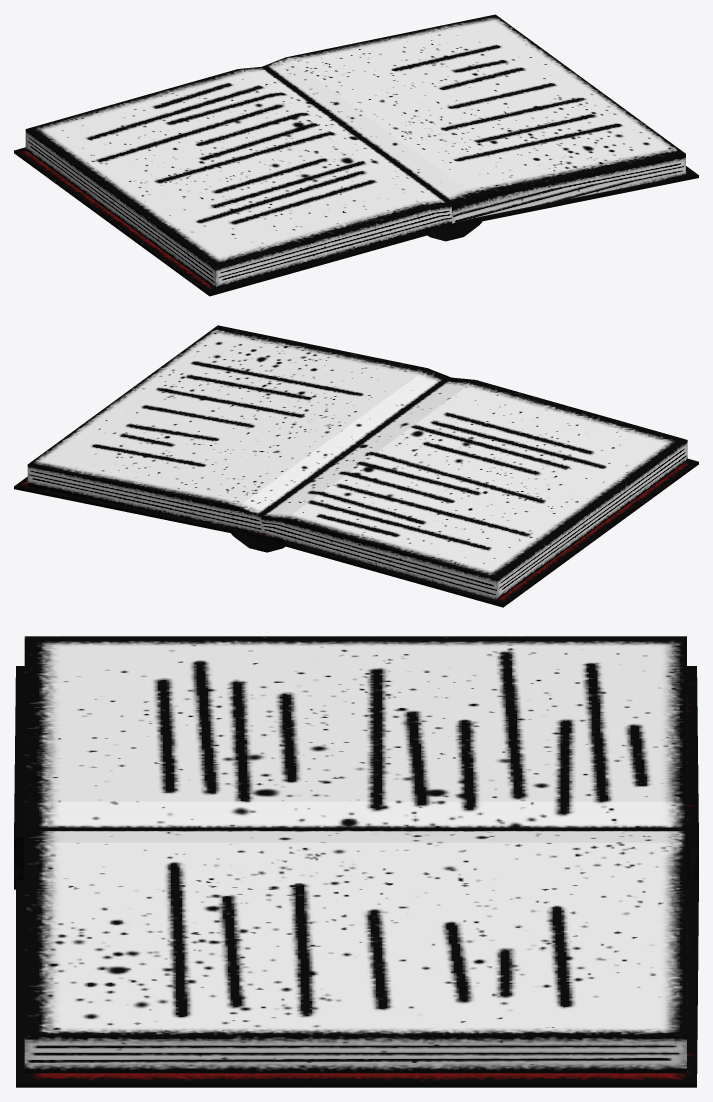
The model's file is book_open.obj.
3 renders of one model, top to bottom at view 1: azimuth 30°, elevation 25°; view 2: azimuth 150°, elevation 25°; view 3: azimuth 270°, elevation 25°, orthographic. The views are drawn at different scales.
Visible parts, largest first — view 1: book_open; view 2: book_open; view 3: book_open.
Boxes of the visible parts, left/top/right/bottom form: book_open: left=14, top=14, right=698, bottom=296; book_open: left=14, top=325, right=698, bottom=607; book_open: left=14, top=636, right=698, bottom=1087.
Size of the model in its own units: 3 by 0.2023 by 2.09.
